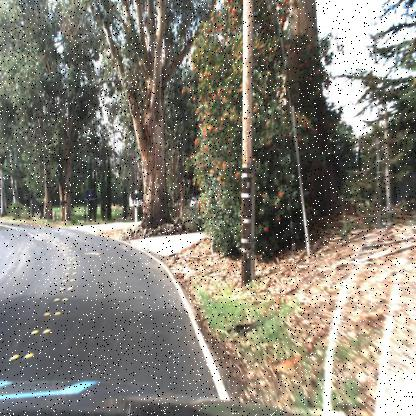car: (182, 192, 203, 216)
